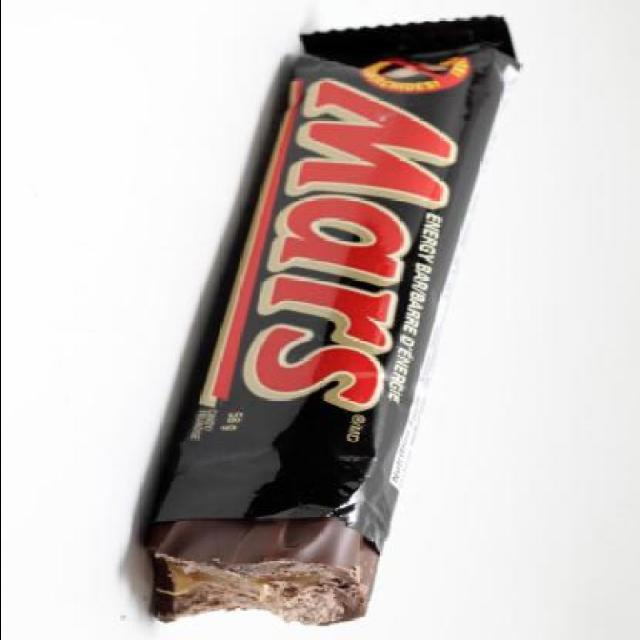Chocolate bar: (134, 18, 520, 514)
